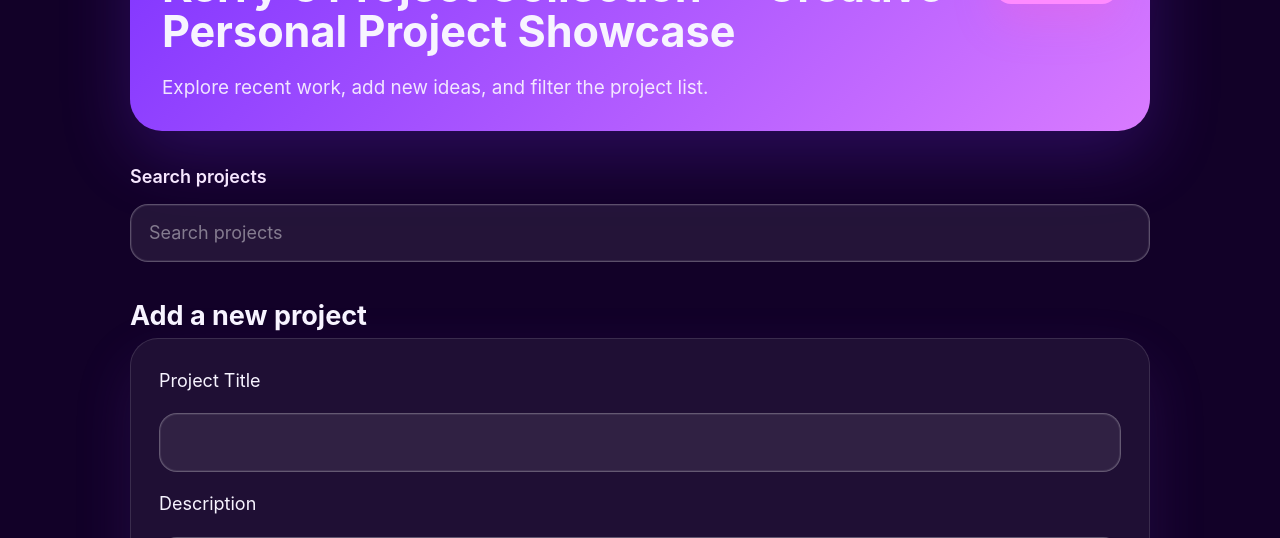
Personal Project Showcase App › adds a new project when form is submitted
Type "New Test Project" into the field labelled "Project Title" at (640, 443), box [159,414,1121,472]
(page scrolled)
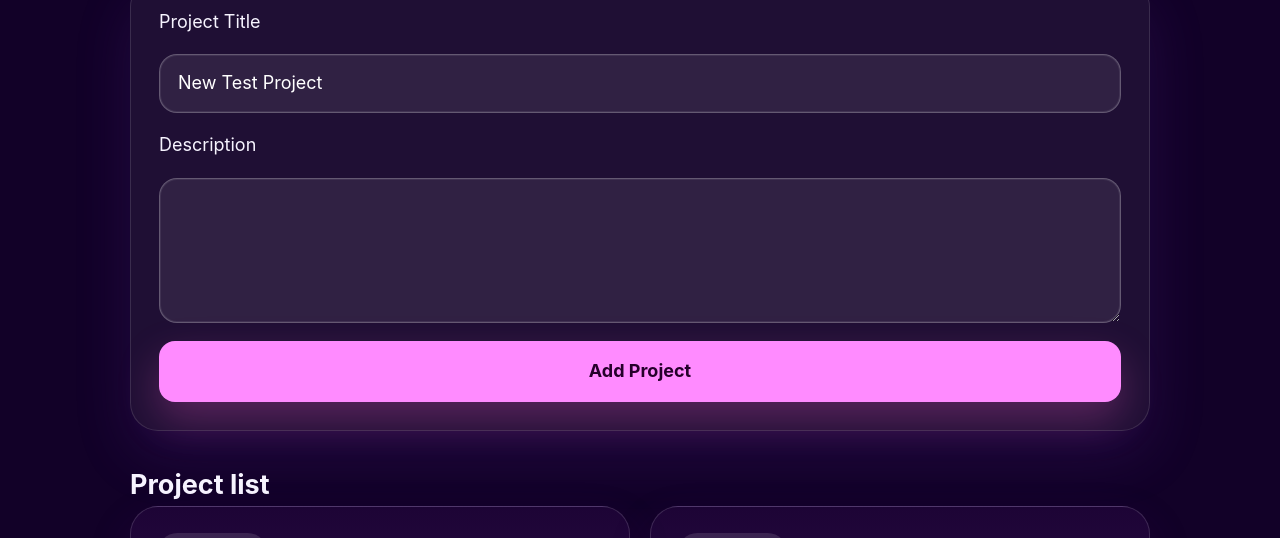
Type "Test description content" into the text box labelled "Description" at (640, 251), box [159,178,1121,323]
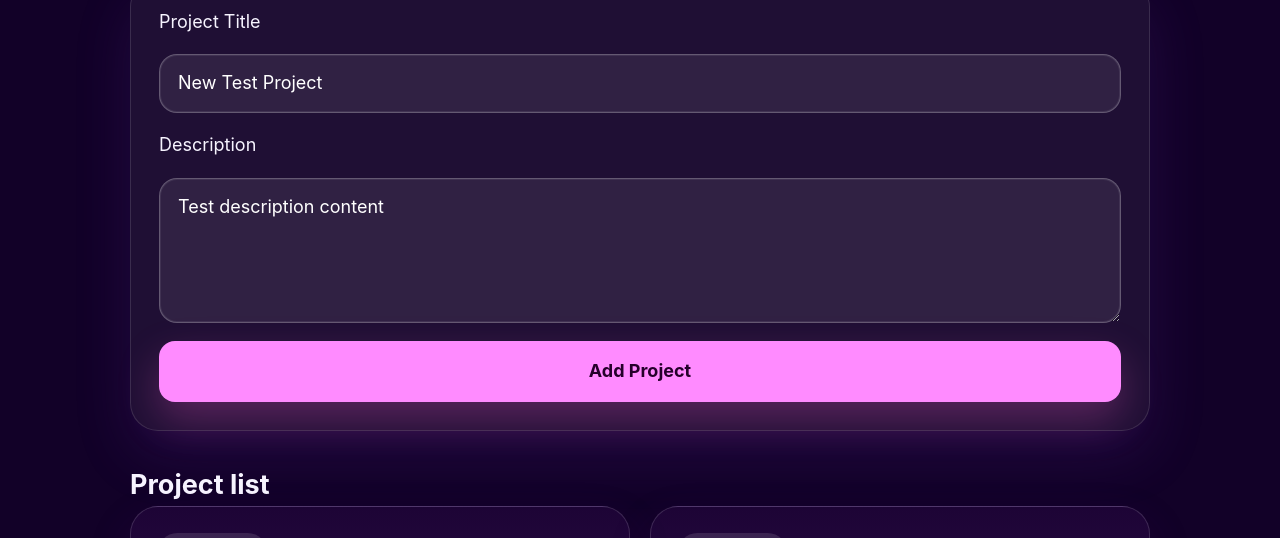
Click the button "Add Project" at (640, 372), box [159,341,1121,402]
(page scrolled)
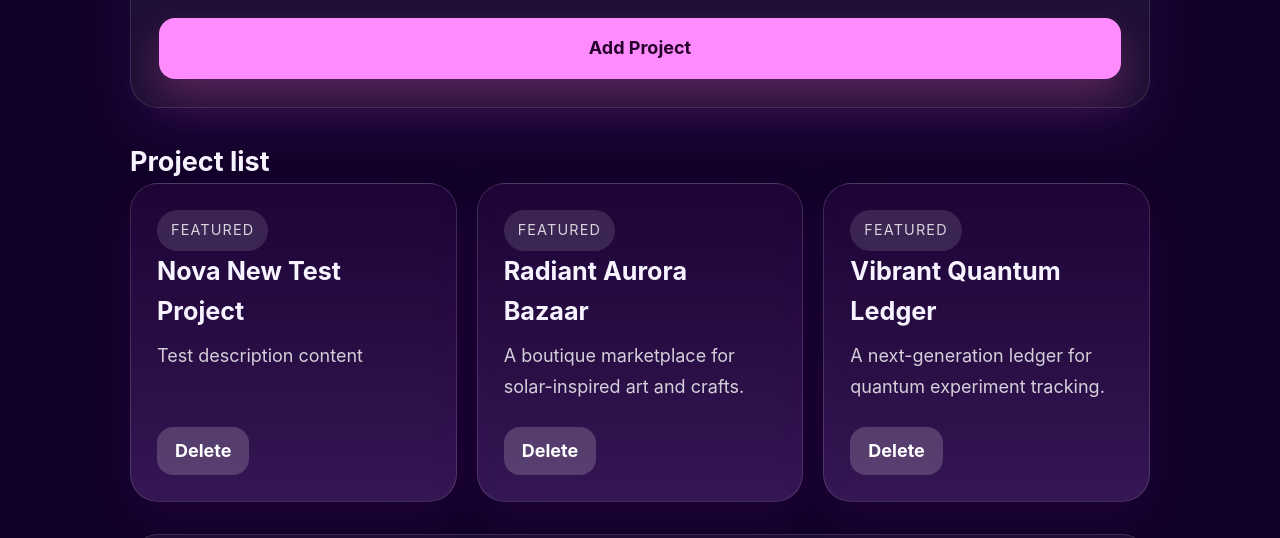
Expected: the heading "Nova New Test Project" is shown, [157,256,341,326]
Expected: the text "Test description content" is shown, [157,345,363,366]
